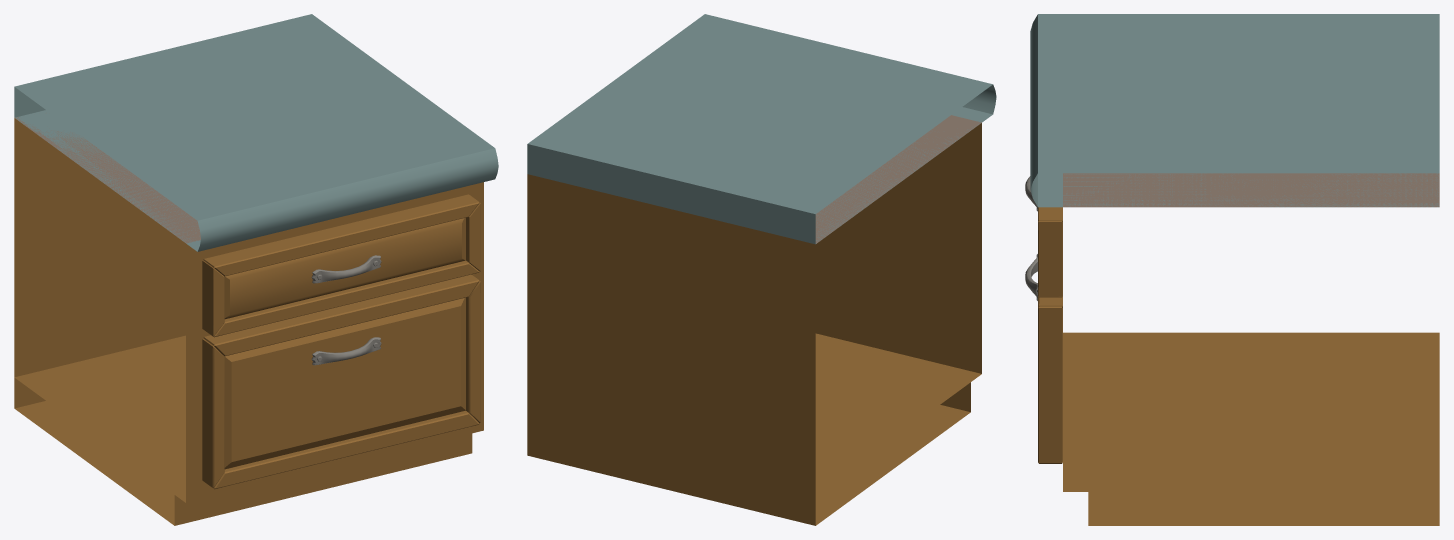
File: Counter_1_5M.fbx
The picture shows the model from 3 angles, left to right: view 1: azimuth 30°, elevation 25°; view 2: azimuth 150°, elevation 25°; view 3: azimuth 270°, elevation 25°; orthographic projection. The views are drawn at different scales.
Parts seen in each view (by area): view 1: Counter_1_5M; view 2: Counter_1_5M; view 3: Counter_1_5M.
Part boxes in pixels (left/top/right/bottom): Counter_1_5M: left=14, top=14, right=498, bottom=525; Counter_1_5M: left=527, top=14, right=996, bottom=525; Counter_1_5M: left=1025, top=14, right=1439, bottom=525.
Size of the model in its own units: 1.5 by 1.55 by 1.65.
